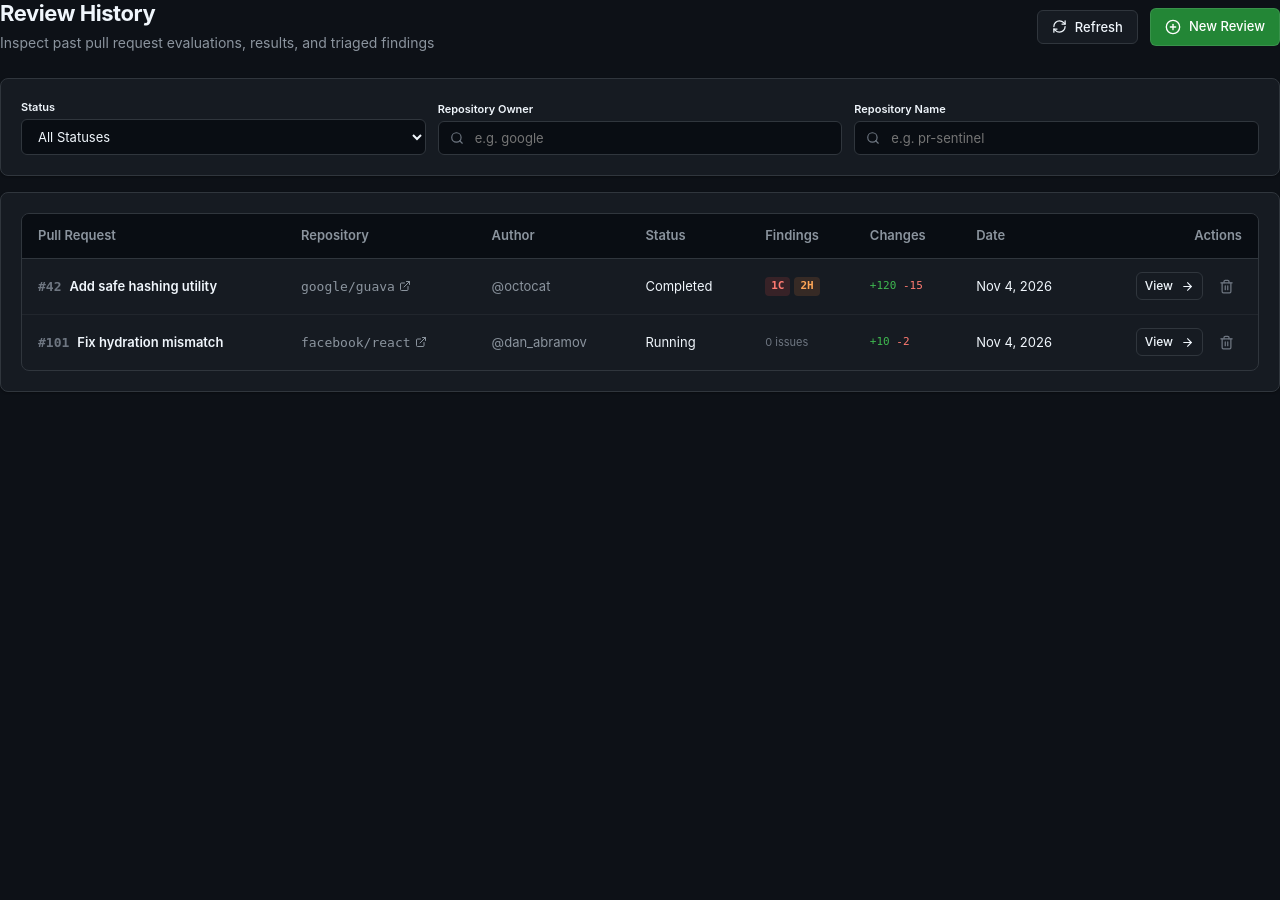
Test: History Page › opens delete confirmation dialog and cancels without calling deleteReview
Expected: the text "Add safe hashing utility" is shown, [70,277,217,296]
Click the button named "Delete review for PR #42": (1226, 286) [1211,271,1242,302]
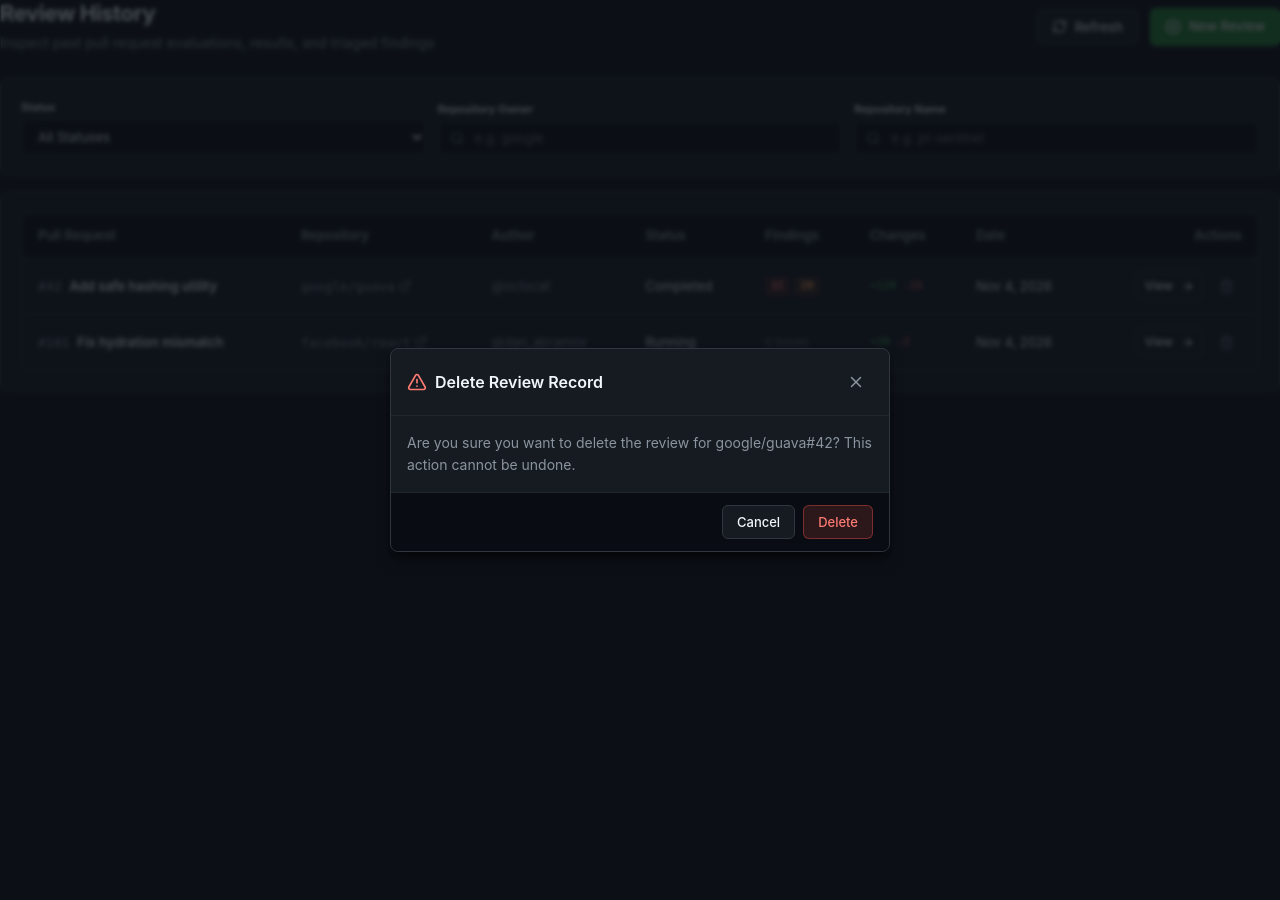
Result: the text "Are you sure you want to delete the review for google/guava#42" is shown at [407,434,872,473]
Click Cancel
Click the button "Cancel": (759, 522) [722,505,795,539]
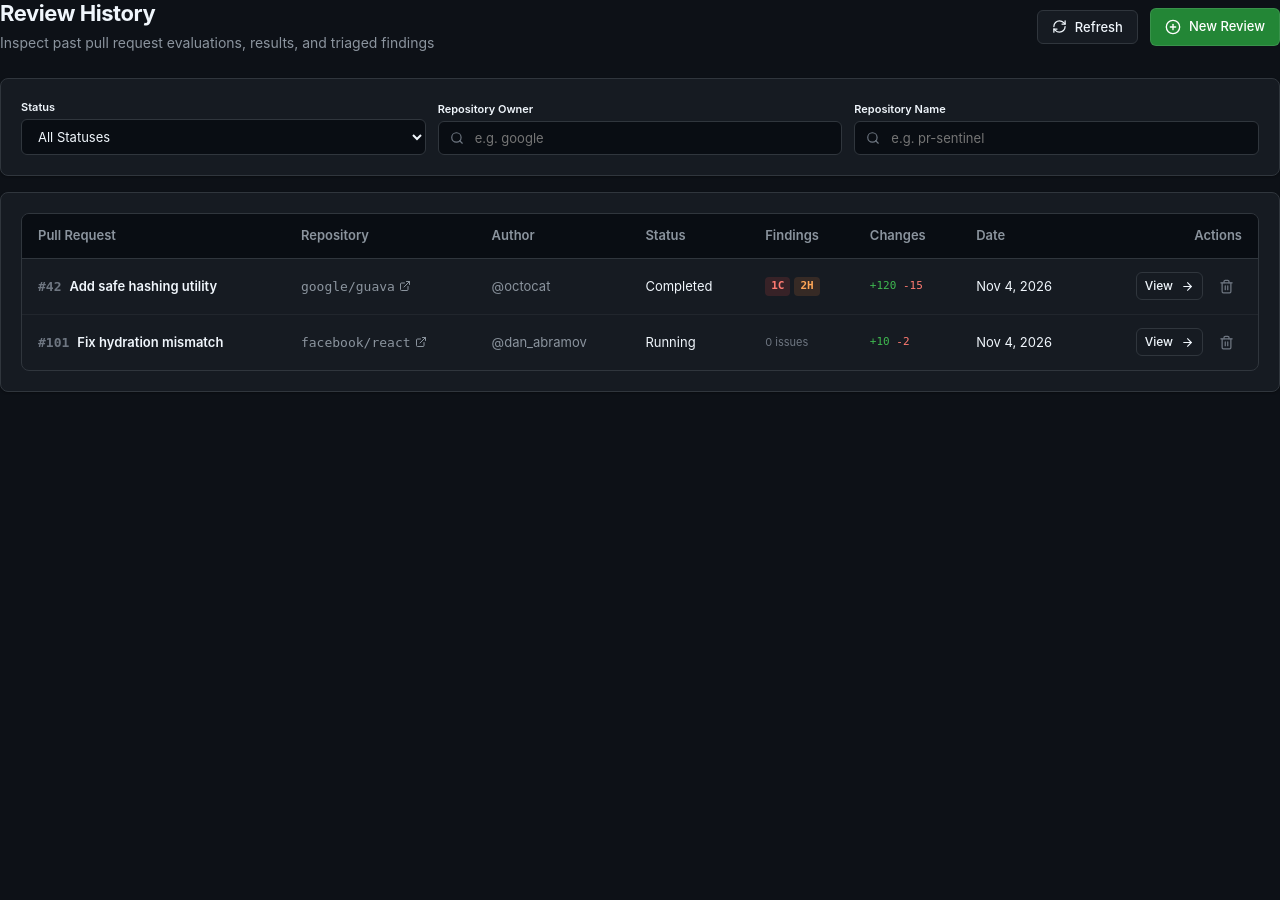
Result: the text "Are you sure you want to delete the review for google/guava#42" is gone
